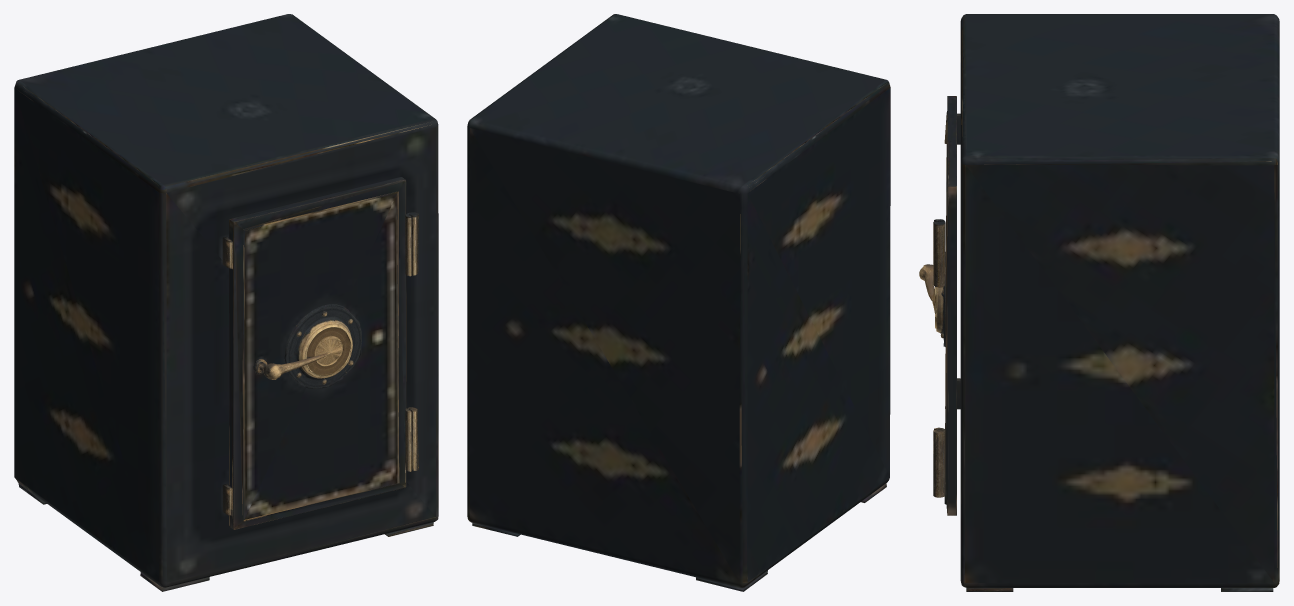
The model's file is safe.glb.
3 views of the same model, side by side, from view 1: azimuth 30°, elevation 25°; view 2: azimuth 150°, elevation 25°; view 3: azimuth 270°, elevation 25° (orthographic). The views are drawn at different scales.
Bounding box in the file's own units: 0.6841 × 0.9502 × 0.7115.
Materials: 1 (1 with a texture image).
